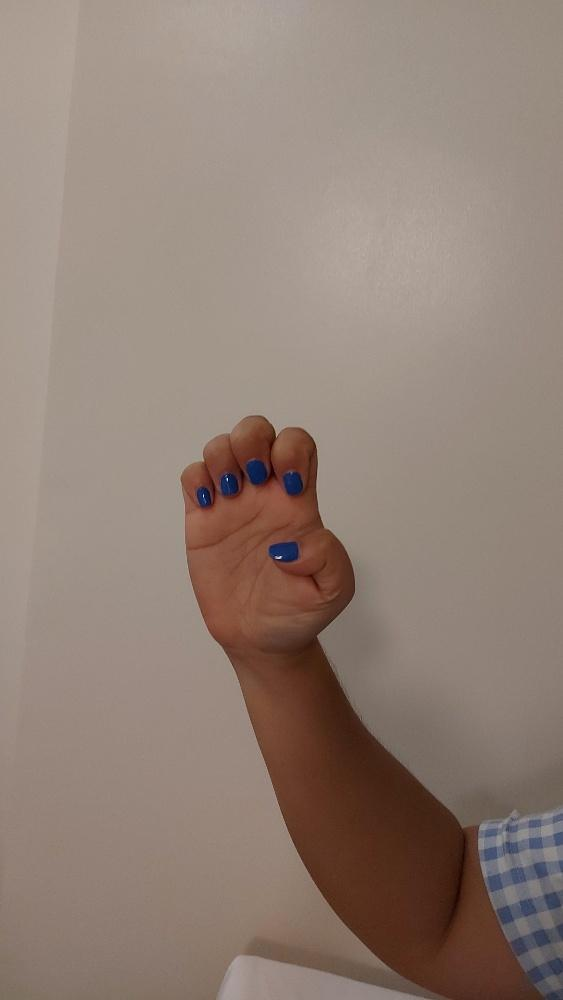e: (179, 411, 356, 645)
